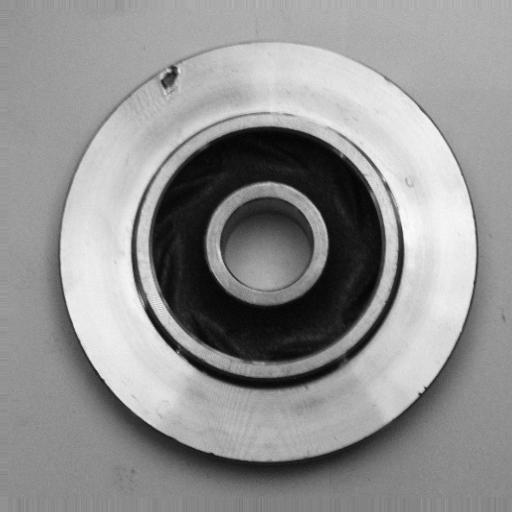crack: (149, 56, 195, 113)
unpolished_casting: (54, 39, 482, 469)
